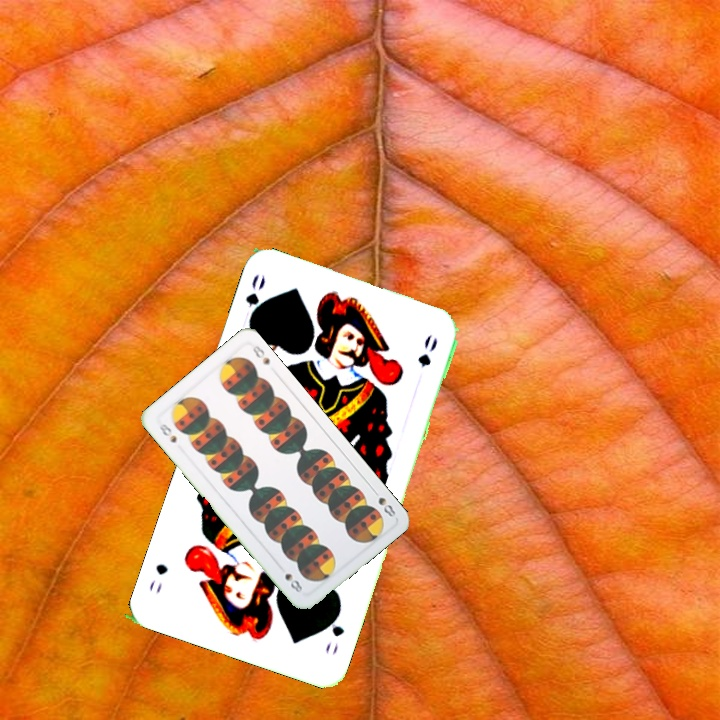GO: (241, 270, 268, 329), (321, 604, 347, 657)
S8: (368, 485, 398, 520), (155, 419, 179, 446)
